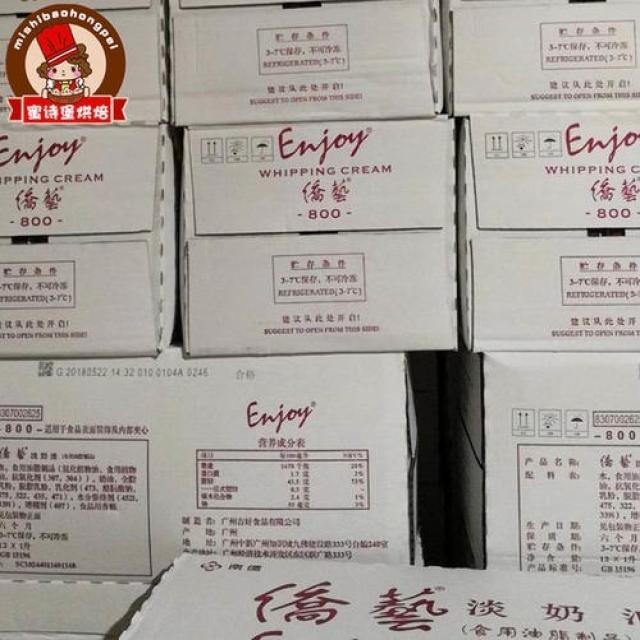box: (0, 338, 424, 639), (178, 116, 460, 360), (115, 556, 639, 640), (457, 112, 640, 352), (0, 124, 177, 357), (460, 351, 640, 575), (168, 0, 444, 124), (442, 0, 640, 116), (0, 0, 168, 130)
